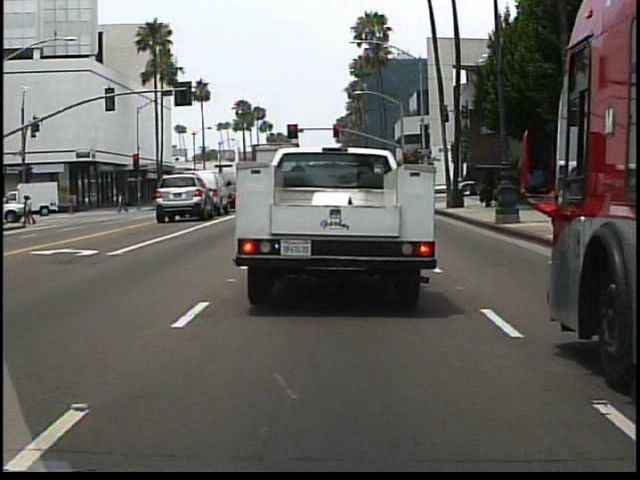person: (68, 190, 82, 217)
